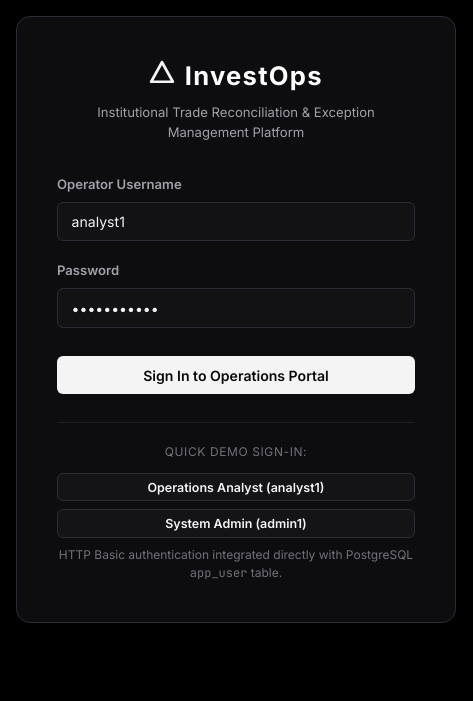
Test case: LoginPage › displays error alert on 401 invalid credentials
Click the button "Sign In to Operations Portal" at (236, 375), box [57,356,415,394]
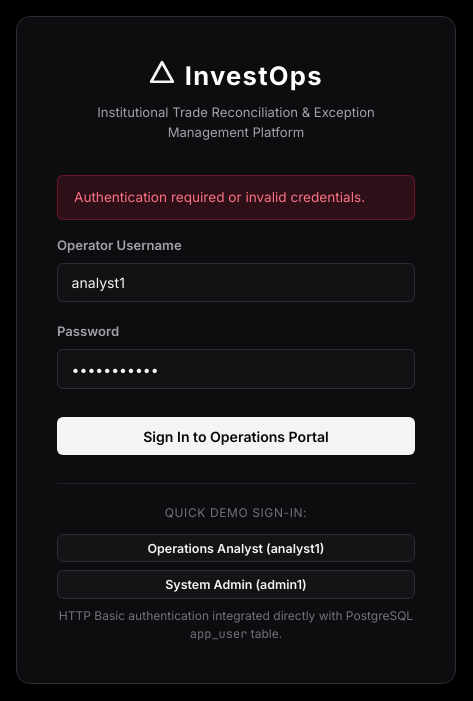
Expected: the message shows "invalid credentials", [74,189,365,205]
